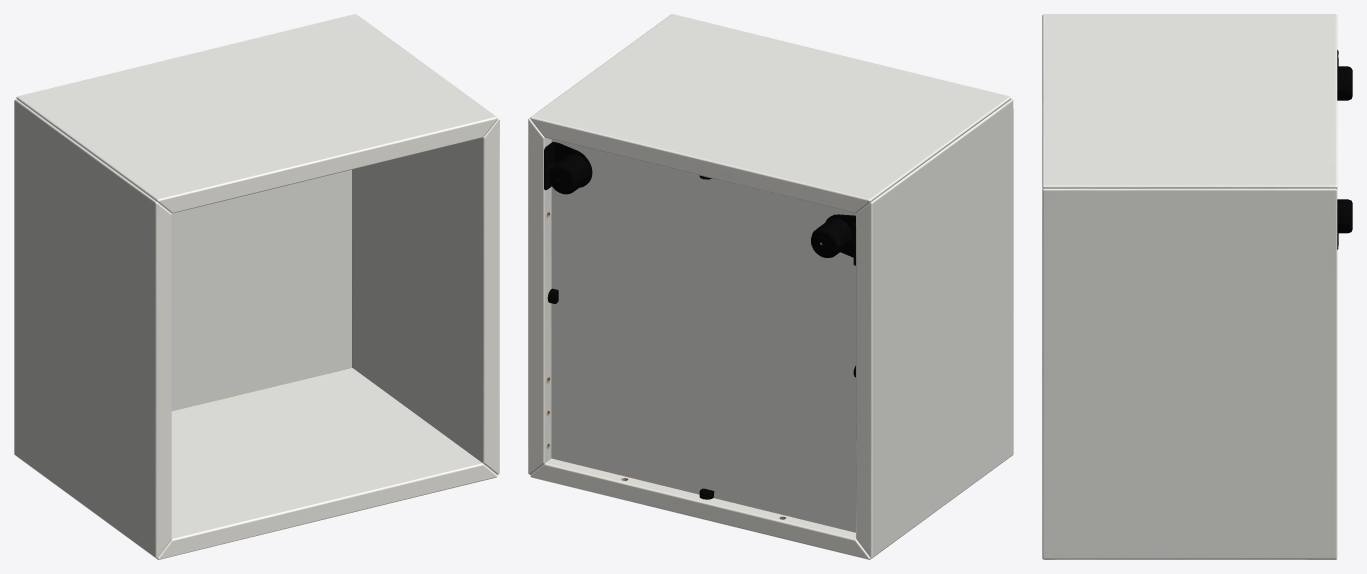
3 views of the same model, side by side, from view 1: azimuth 30°, elevation 25°; view 2: azimuth 150°, elevation 25°; view 3: azimuth 270°, elevation 25° (orthographic). The views are drawn at different scales.
Visible parts, largest first — view 1: model; view 2: model; view 3: model.
Boxes of the visible parts, left/top/right/bottom form: model: left=14, top=14, right=499, bottom=559; model: left=528, top=14, right=1013, bottom=559; model: left=1042, top=14, right=1352, bottom=559.
Size of the model in its own units: 0.3501 by 0.3501 by 0.263.
Materials: 1 (1 with a texture image).
